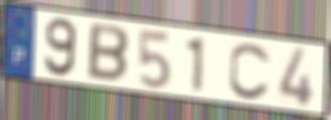1: (184, 36, 209, 93)
4: (276, 45, 316, 109)
5: (136, 26, 174, 91)
9: (44, 17, 79, 78)
B: (85, 20, 131, 85)
C: (227, 40, 273, 102)
